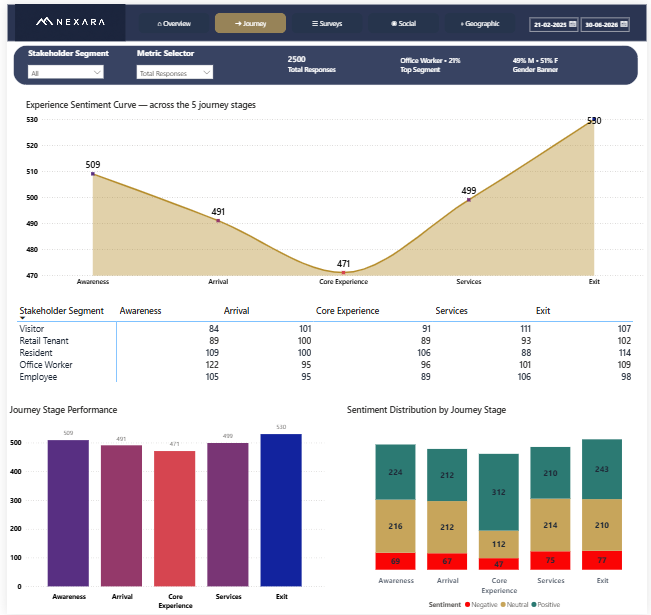

What the dashboard file says about the page in this screenshot:
{"tool":"powerbi","page":{"name":"➜  Journey","canvas":[1280,1220],"ordinal":1},"visuals":[{"type":"shape","box":[0,0,1280,74.8],"z":0},{"type":"shape","box":[13.6,83.6,1250,80],"z":1000},{"type":"image","box":[3.6,6,234,63.9],"z":2000},{"type":"pageNavigator","box":[263.3,18.3,758.3,41.7],"z":3000},{"type":"slicer","fields":{"Values":["Fact_Survey.Date"]},"box":[1038.3,23.3,241.7,38.3],"z":4000},{"type":"textbox","box":[38.2,83.6,211.8,34.5],"z":5000},{"type":"textbox","box":[255.5,83.6,197.3,34.5],"z":6000},{"type":"cardVisual","fields":{"Data":["Fact_Survey.Total Responses","Fact_Survey.Top Segment","Fact_Survey.Gender Banner"]},"box":[533.6,74.5,710,89.1],"z":7000},{"type":"lineChart","title":"Experience Sentiment Curve — across the 5 journey stages ","fields":{"Category":["Dim_Journey.Journey_Stage"],"Y":["Fact_Survey.Selected Metric"]},"box":[32.7,190.9,1247.3,384.5],"z":9000},{"type":"pivotTable","title":"Selected Metric by Stakeholder Segment × Journey Stage cell colour shows healt","fields":{"Columns":["Dim_Journey.Journey_Stage"],"Rows":["Fact_Survey.Customer_Segment"],"Values":["Fact_Survey.Selected Metric"]},"box":[14,596,1250,178],"z":10000},{"type":"slicer","title":"Account Name","fields":{"Values":["Fact_Survey.Customer Segment"]},"box":[38.2,117.3,160,30.9],"z":11000},{"type":"slicer","fields":{"Values":["Metric Selector.Metric"]},"box":[255.5,117.3,161.8,36.4],"z":12000},{"type":"clusteredColumnChart","title":"Journey Stage Performance","fields":{"Category":["Dim_Journey.Journey_Stage"],"Y":["Fact_Survey.Selected Metric"]},"box":[0,800,640,420],"z":13000},{"type":"columnChart","title":"Sentiment Distribution by Journey Stage","fields":{"Category":["Dim_Journey.Journey_Stage"],"Series":["Fact_Survey.Sentiment"],"Y":["Fact_Survey.Selected Metric"]},"box":[675.7,800,604.3,420],"z":14000},{"type":"image","box":[2,0,248,74],"z":14001}]}

Visuals, with their boxes in screenshot pixels (x1, y1, x2, y2), scaled from the page's 1280x1220 canvas onto the 651x615 screenshot:
shape: 0:0:650:38
shape: 7:42:643:82
image: 2:3:121:35
pageNavigator: 134:9:520:30
slicer - Fact_Survey.Date: 528:12:650:31
textbox: 19:42:127:60
textbox: 130:42:230:60
cardVisual - Fact_Survey.Total Responses x Fact_Survey.Top Segment: 271:38:632:82
"Experience Sentiment Curve — across the 5 journey stages " lineChart: 17:96:650:290
"Selected Metric by Stakeholder Segment × Journey Stage cell colour shows healt" pivotTable: 7:300:643:390
"Account Name" slicer: 19:59:101:75
slicer - Metric Selector.Metric: 130:59:212:77
"Journey Stage Performance" clusteredColumnChart: 0:403:326:614
"Sentiment Distribution by Journey Stage" columnChart: 344:403:650:614
image: 1:0:127:37
